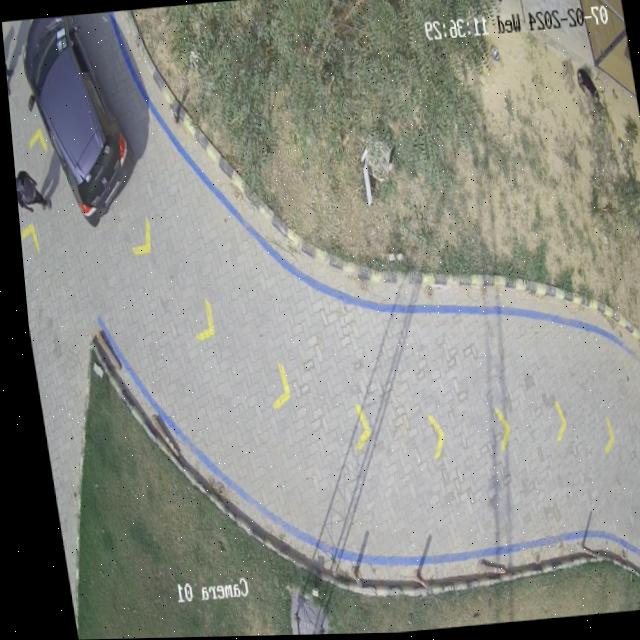car: (19, 16, 128, 223)
